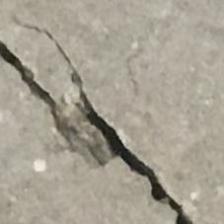Crack: (0, 23, 192, 224)
